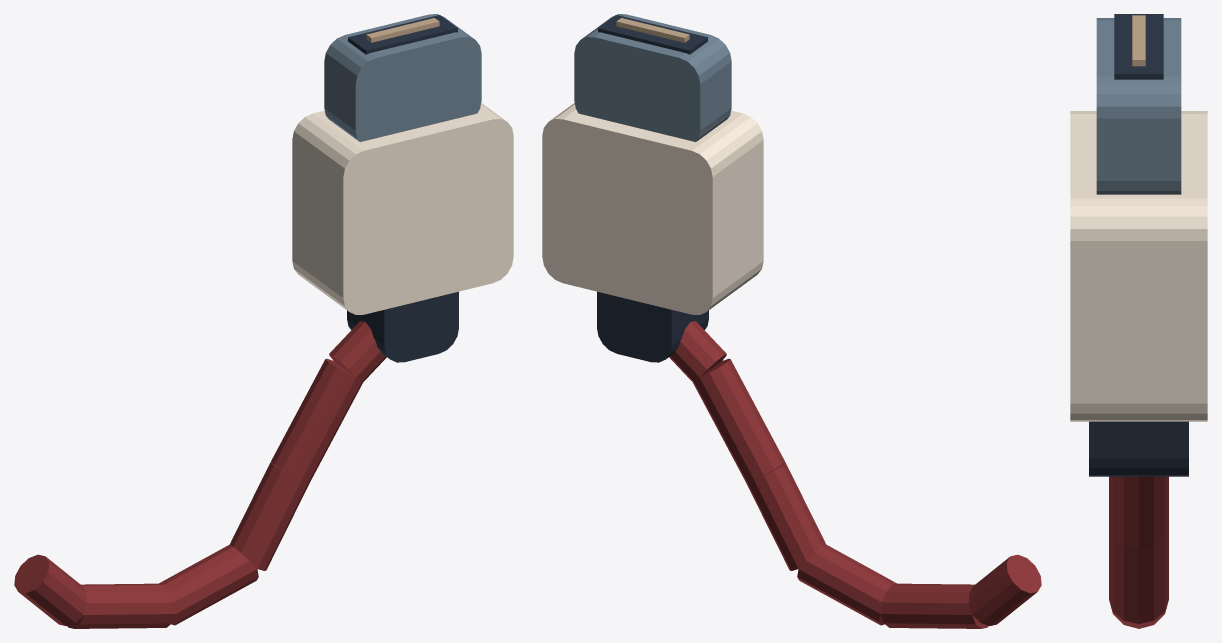
File: usbc.glb
The picture shows the model from 3 angles, left to right: view 1: azimuth 30°, elevation 25°; view 2: azimuth 150°, elevation 25°; view 3: azimuth 270°, elevation 25°; orthographic projection. The views are drawn at different scales.
Parts seen in each view (by area): view 1: plug sleeve, metal plug, rubber cable4, strain relief, rubber cable3, rubber cable1, rubber cable2, rubber cable0, rubber cable5, plug opening, contact tongue; view 2: plug sleeve, metal plug, rubber cable4, strain relief, rubber cable3, rubber cable1, rubber cable2, rubber cable0, rubber cable5, plug opening, contact tongue; view 3: plug sleeve, metal plug, strain relief, rubber cable3, rubber cable4, plug opening, contact tongue, rubber cable2.
Boxes of the visible parts, <box> form: plug sleeve: <box>292,103,513,314</box>; metal plug: <box>324,14,481,141</box>; rubber cable4: <box>271,358,362,481</box>; strain relief: <box>347,291,458,362</box>; rubber cable3: <box>230,462,309,570</box>; rubber cable1: <box>67,583,175,628</box>; rubber cable2: <box>159,544,258,625</box>; rubber cable0: <box>14,554,87,626</box>; rubber cable5: <box>329,321,386,381</box>; plug opening: <box>348,15,457,54</box>; contact tongue: <box>366,18,439,42</box>; plug sleeve: <box>542,103,763,314</box>; metal plug: <box>574,14,731,141</box>; rubber cable4: <box>693,358,784,481</box>; strain relief: <box>597,291,708,362</box>; rubber cable3: <box>746,462,825,570</box>; rubber cable1: <box>880,583,988,628</box>; rubber cable2: <box>797,544,896,625</box>; rubber cable0: <box>968,554,1041,626</box>; rubber cable5: <box>669,321,726,381</box>; plug opening: <box>598,15,707,54</box>; contact tongue: <box>616,18,689,42</box>; plug sleeve: <box>1070,111,1207,421</box>; metal plug: <box>1096,18,1181,194</box>; strain relief: <box>1089,421,1188,476</box>; rubber cable3: <box>1109,524,1168,623</box>; rubber cable4: <box>1109,476,1168,547</box>; plug opening: <box>1114,14,1163,79</box>; contact tongue: <box>1132,15,1145,66</box>; rubber cable2: <box>1109,602,1168,628</box>.
Size of the model in its own units: 1.38 by 1.51 by 0.26.
